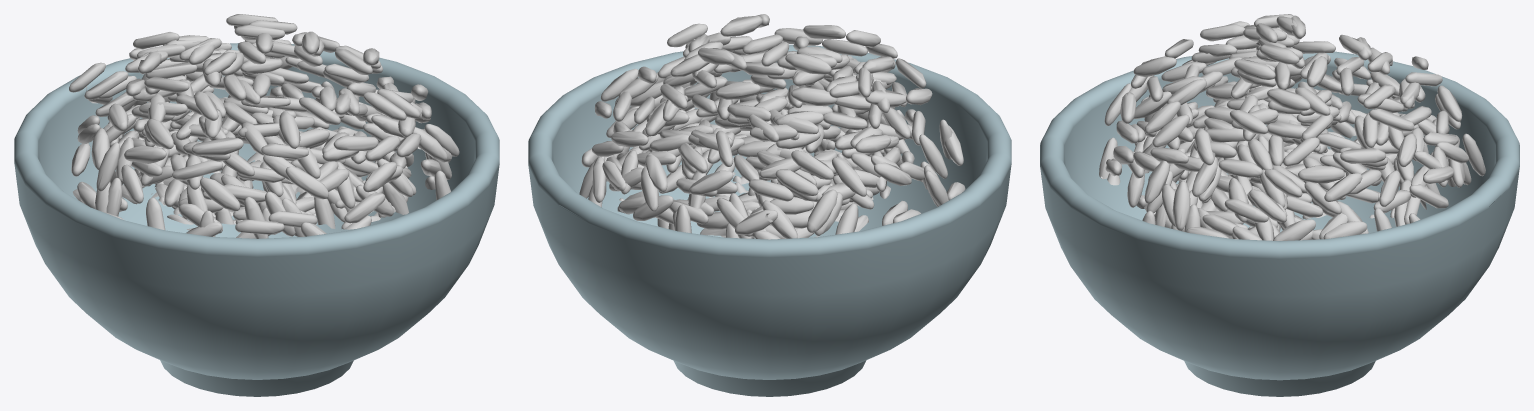
The model's file is rice-v3.fbx.
3 renders of one model, left to right at view 1: azimuth 30°, elevation 25°; view 2: azimuth 150°, elevation 25°; view 3: azimuth 270°, elevation 25°, orthographic.
Visible parts, largest first — view 1: rice-bowl; view 2: rice-bowl; view 3: rice-bowl.
Part boxes in pixels (x1,y1,x2,y2): rice-bowl: (14, 14, 499, 396); rice-bowl: (528, 14, 1011, 396); rice-bowl: (1040, 14, 1519, 396).
Bounding box in the file's own units: 310 × 224 × 310.
